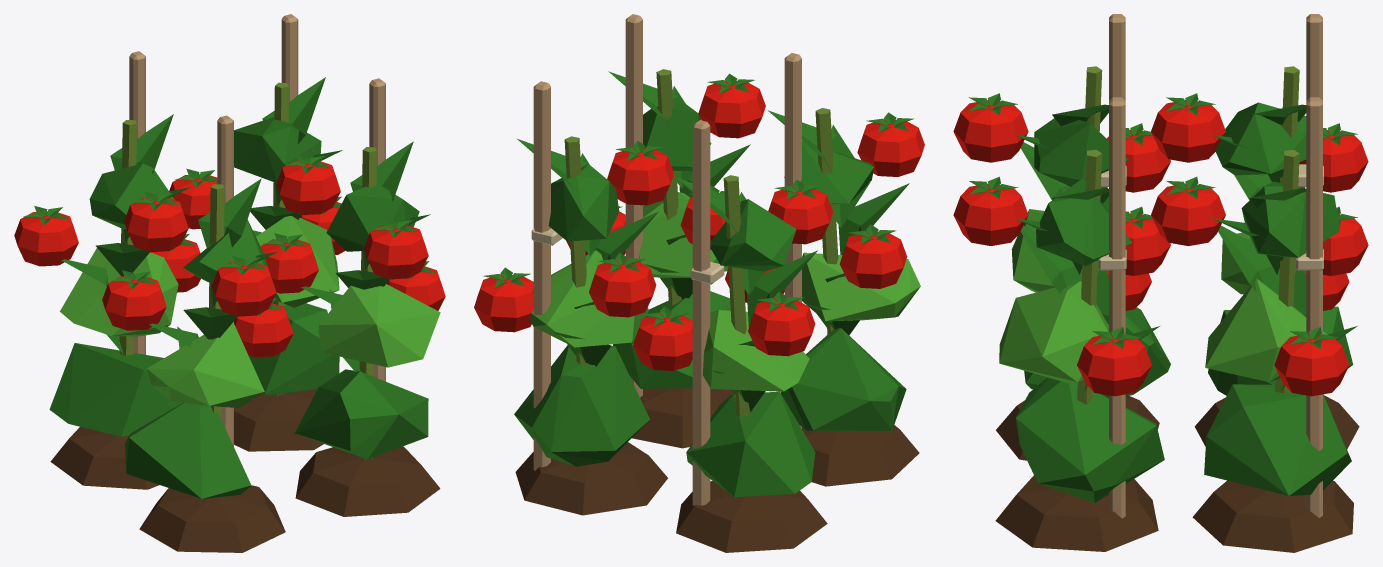
The model's file is crop_tomato.glb.
3 renders of one model, left to right at view 1: azimuth 30°, elevation 25°; view 2: azimuth 150°, elevation 25°; view 3: azimuth 270°, elevation 25°, orthographic. The views are drawn at different scales.
Visible parts, largest first — view 1: Plant, Mounds, Fruit_2, Fruit_5, Fruit_8, Fruit_11, Fruit_1, Fruit_4, Fruit_10, Fruit_3, Fruit_7, Fruit_9 (+2 smaller); view 2: Plant, Mounds, Fruit_4, Fruit_7, Fruit_1, Fruit_11, Fruit_8, Fruit_5, Fruit_0, Fruit_6, Fruit_2, Fruit_10; view 3: Plant, Mounds, Fruit_6, Fruit_9, Fruit_5, Fruit_8, Fruit_11, Fruit_2, Fruit_1, Fruit_4, Fruit_10, Fruit_7 (+2 smaller).
Boxes of the visible parts, x1=… form: Plant: x1=49, y1=14, x2=440, y2=498; Mounds: x1=50, y1=389, x2=440, y2=552; Fruit_2: x1=124, y1=191, x2=188, y2=252; Fruit_5: x1=212, y1=256, x2=276, y2=316; Fruit_8: x1=276, y1=154, x2=340, y2=214; Fruit_11: x1=364, y1=219, x2=428, y2=279; Fruit_1: x1=14, y1=206, x2=78, y2=266; Fruit_4: x1=102, y1=270, x2=166, y2=330; Fruit_10: x1=260, y1=233, x2=318, y2=293; Fruit_3: x1=234, y1=298, x2=293, y2=357; Fruit_7: x1=169, y1=168, x2=217, y2=229; Fruit_9: x1=386, y1=261, x2=445, y2=310; Plant: x1=514, y1=14, x2=920, y2=505; Mounds: x1=515, y1=388, x2=919, y2=552; Fruit_4: x1=839, y1=224, x2=907, y2=288; Fruit_7: x1=589, y1=253, x2=656, y2=317; Fruit_1: x1=748, y1=291, x2=815, y2=356; Fruit_11: x1=698, y1=73, x2=765, y2=138; Fruit_8: x1=607, y1=140, x2=673, y2=205; Fruit_5: x1=857, y1=112, x2=924, y2=176; Fruit_0: x1=633, y1=306, x2=692, y2=370; Fruit_6: x1=474, y1=267, x2=533, y2=332; Fruit_2: x1=768, y1=179, x2=832, y2=244; Fruit_10: x1=680, y1=185, x2=725, y2=249; Plant: x1=999, y1=14, x2=1357, y2=518; Mounds: x1=995, y1=395, x2=1359, y2=552; Fruit_6: x1=1274, y1=327, x2=1349, y2=396; Fruit_9: x1=1077, y1=327, x2=1151, y2=396; Fruit_5: x1=953, y1=93, x2=1028, y2=162; Fruit_8: x1=1151, y1=176, x2=1225, y2=245; Fruit_11: x1=953, y1=176, x2=1028, y2=245; Fruit_2: x1=1151, y1=93, x2=1225, y2=162; Fruit_1: x1=1299, y1=123, x2=1368, y2=192; Fruit_4: x1=1106, y1=123, x2=1170, y2=192; Fruit_10: x1=1125, y1=206, x2=1170, y2=275; Fruit_7: x1=1323, y1=206, x2=1368, y2=275.
Size of the model in its own units: 0.9066 by 1.02 by 0.8831.
